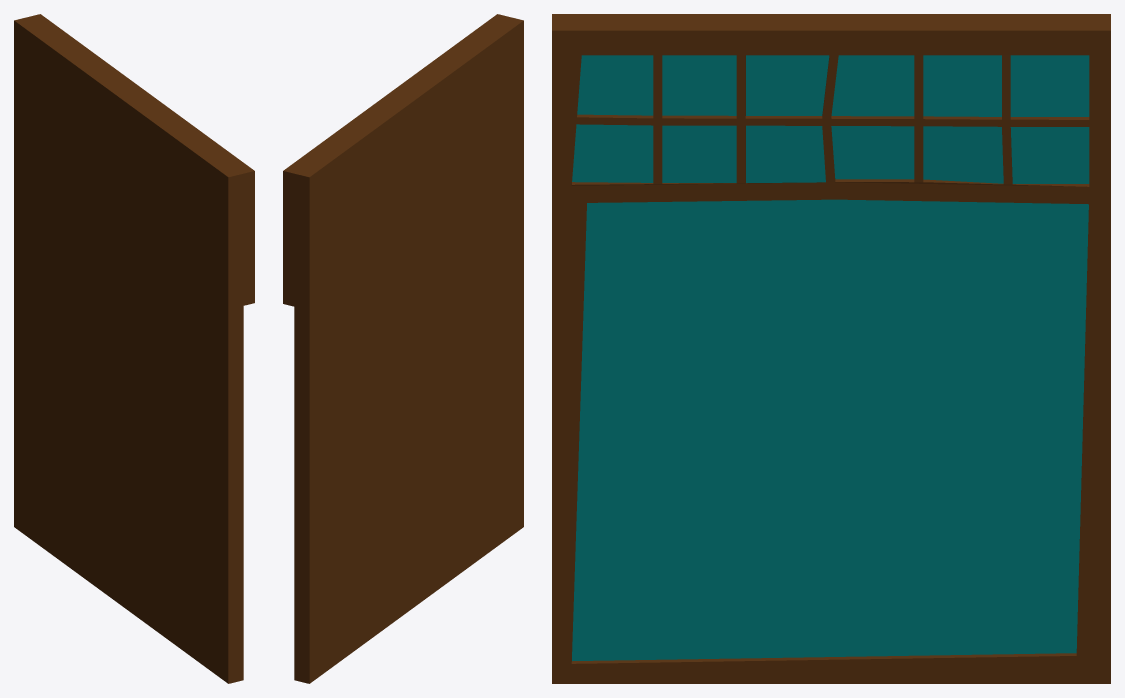
File: GrocerWindow.fbx
3 renders of one model, left to right at view 1: azimuth 30°, elevation 25°; view 2: azimuth 150°, elevation 25°; view 3: azimuth 270°, elevation 25°, orthographic. The views are drawn at different scales.
Visible parts, largest first — view 1: Cube.018; view 2: Cube.018; view 3: Cube.018.
Boxes of the visible parts, x1,y1,x2,y2 form: Cube.018: (14, 14, 254, 683); Cube.018: (283, 14, 523, 683); Cube.018: (552, 14, 1110, 683).
Bounding box in the file's own units: 14.7 × 204 × 266.
